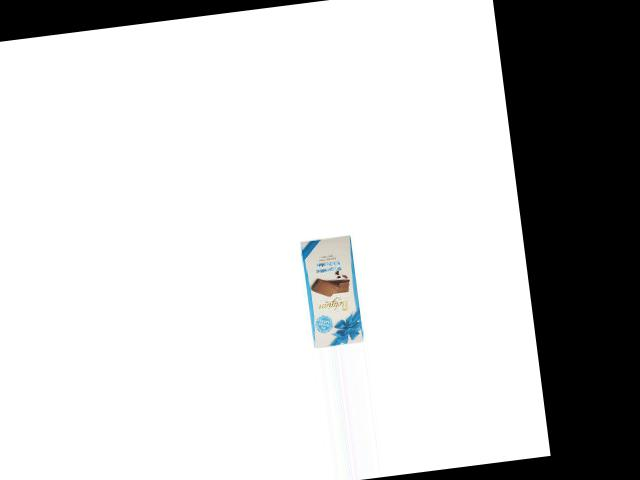chocolate: (295, 231, 371, 350)
